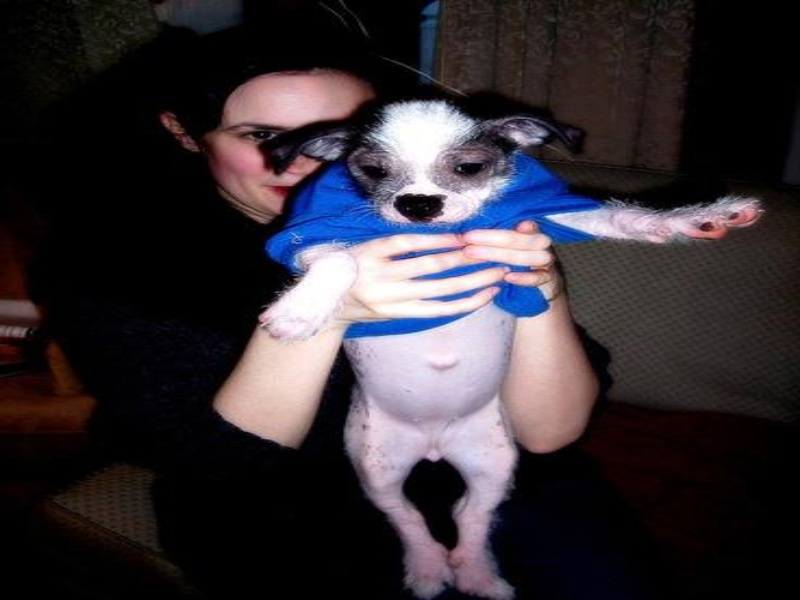face: (219, 65, 367, 220)
hands: (344, 223, 506, 320), (464, 212, 563, 305)
